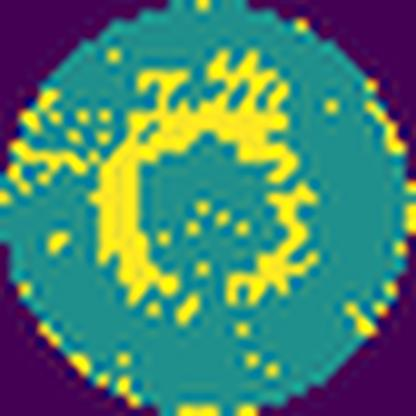Donut: (76, 44, 324, 330)
